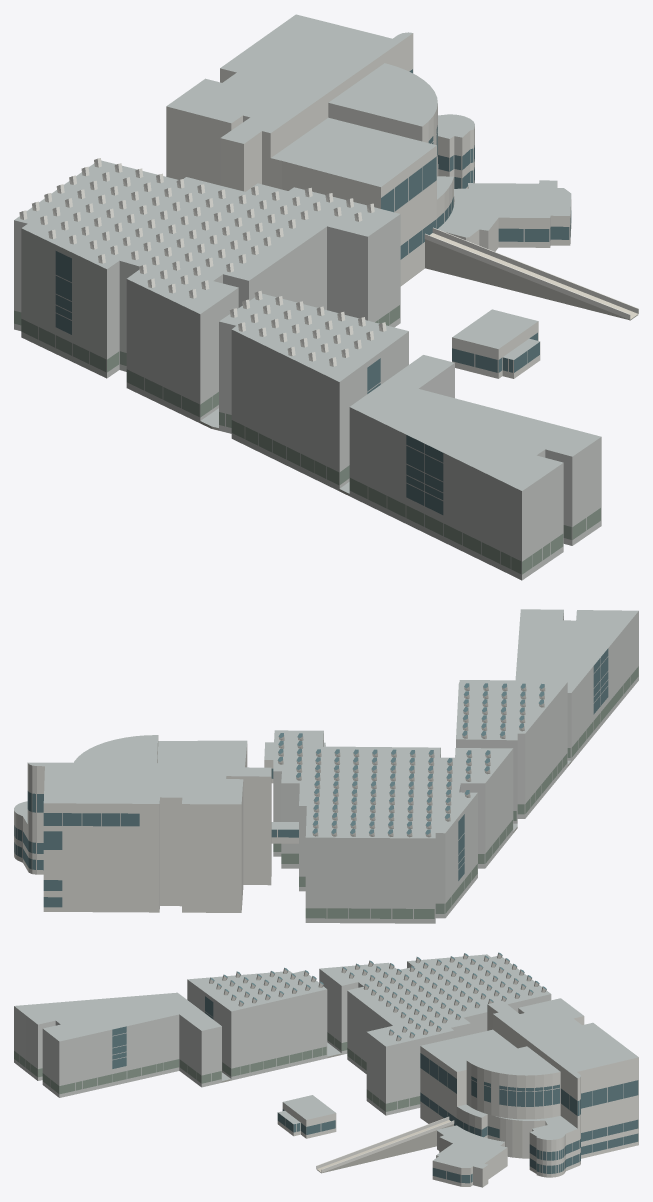
File: high-museum-of-art-far.glb
3 renders of one model, top to bottom at view 1: azimuth 30°, elevation 25°; view 2: azimuth 150°, elevation 25°; view 3: azimuth 270°, elevation 25°, orthographic. The views are drawn at different scales.
Parts seen in each view (by area): view 1: high-museum-of-art-0-roof, high-museum-of-art-0-aluminum, high-museum-of-art-0-white, high-museum-of-art-0-glass, high-museum-of-art-0-glow, high-museum-of-art-0-foundation, high-museum-of-art-0-path; view 2: high-museum-of-art-0-roof, high-museum-of-art-0-white, high-museum-of-art-0-aluminum, high-museum-of-art-0-glass, high-museum-of-art-0-glow; view 3: high-museum-of-art-0-roof, high-museum-of-art-0-aluminum, high-museum-of-art-0-white, high-museum-of-art-0-glass, high-museum-of-art-0-glow, high-museum-of-art-0-foundation, high-museum-of-art-0-path.
Boxes of the visible parts, x1=… form: high-museum-of-art-0-roof: x1=14, y1=14, x2=600, y2=493; high-museum-of-art-0-aluminum: x1=14, y1=214, x2=601, y2=580; high-museum-of-art-0-white: x1=19, y1=33, x2=638, y2=378; high-museum-of-art-0-glass: x1=55, y1=69, x2=571, y2=514; high-museum-of-art-0-glow: x1=14, y1=305, x2=600, y2=574; high-museum-of-art-0-foundation: x1=200, y1=239, x2=638, y2=495; high-museum-of-art-0-path: x1=430, y1=233, x2=637, y2=318; high-museum-of-art-0-roof: x1=14, y1=609, x2=638, y2=838; high-museum-of-art-0-white: x1=14, y1=684, x2=545, y2=912; high-museum-of-art-0-aluminum: x1=273, y1=611, x2=638, y2=923; high-museum-of-art-0-glass: x1=14, y1=648, x2=608, y2=907; high-museum-of-art-0-glow: x1=273, y1=666, x2=638, y2=918; high-museum-of-art-0-roof: x1=14, y1=954, x2=638, y2=1168; high-museum-of-art-0-aluminum: x1=14, y1=961, x2=551, y2=1115; high-museum-of-art-0-white: x1=209, y1=953, x2=638, y2=1187; high-museum-of-art-0-glass: x1=112, y1=952, x2=638, y2=1183; high-museum-of-art-0-glow: x1=14, y1=1032, x2=420, y2=1111; high-museum-of-art-0-foundation: x1=222, y1=1053, x2=453, y2=1173; high-museum-of-art-0-path: x1=317, y1=1120, x2=450, y2=1172.
Bounding box in the file's own units: 112 × 28 × 180.
